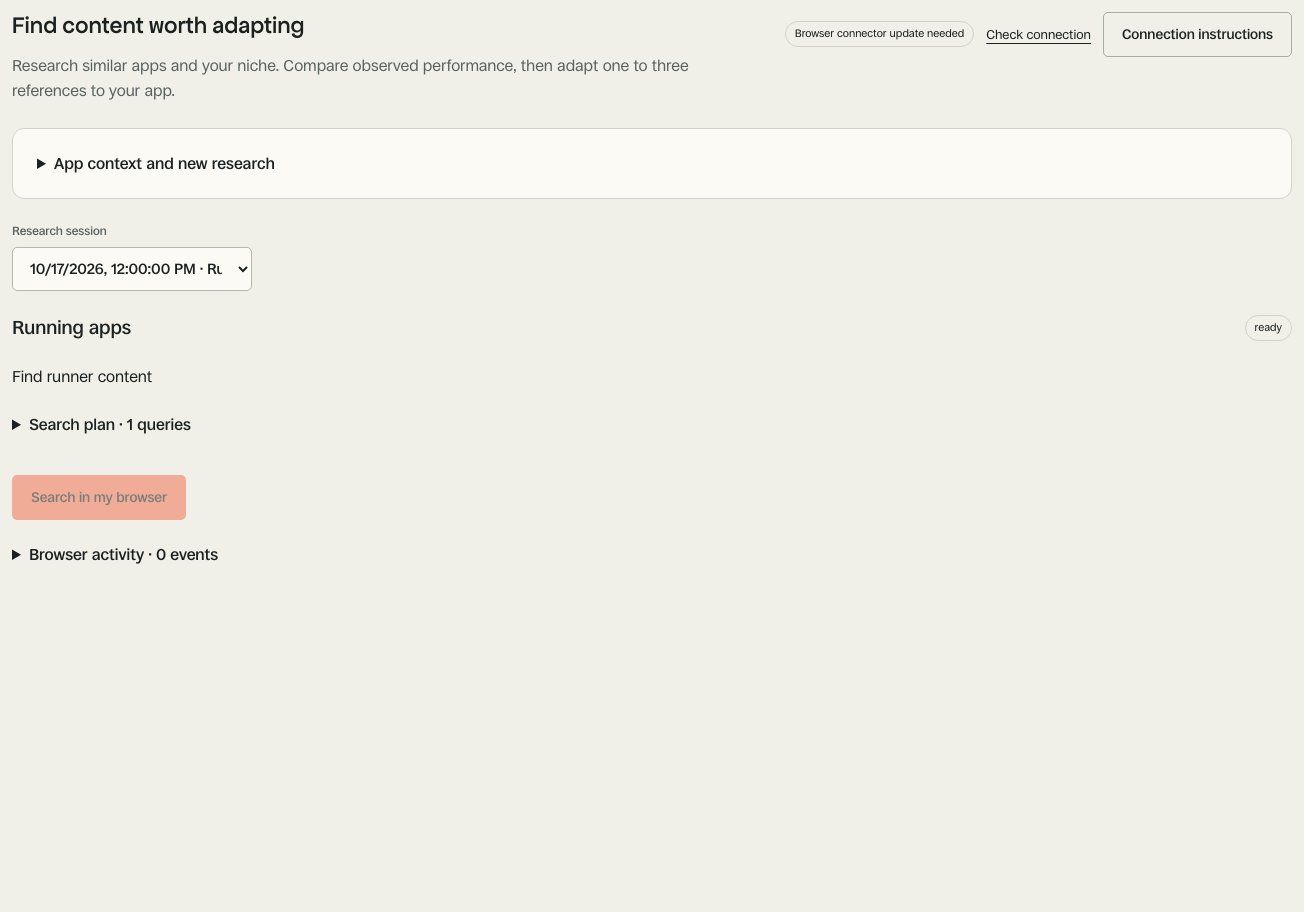
Test: explains how to reload connector 0.1.0 before collection
Check: the button "Search in my browser" is disabled, box x1=12 y1=475 x2=186 y2=520
Click the button "Check connection" at (1039, 34), box x1=986 y1=14 x2=1091 y2=54
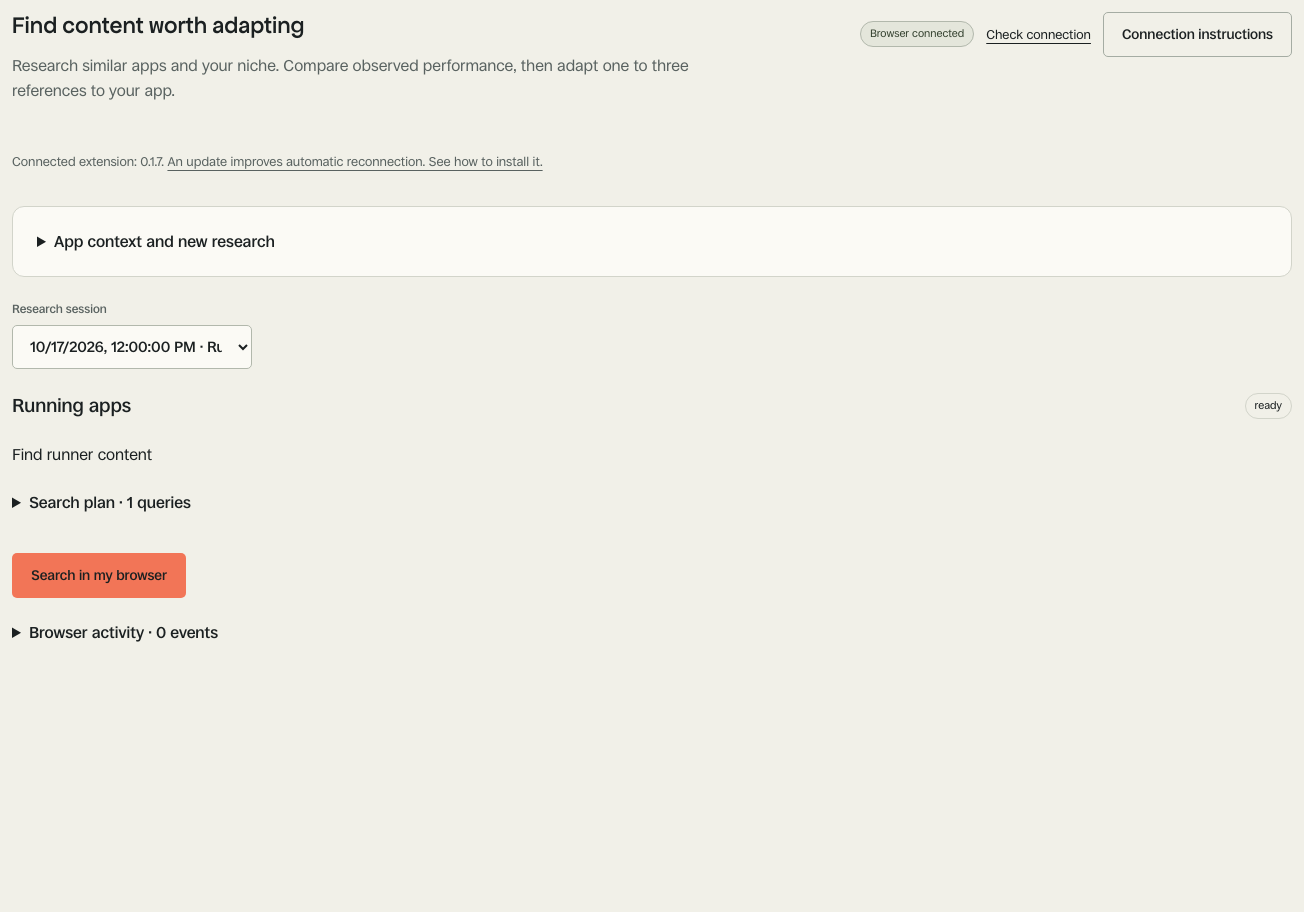
Check: the text "Browser connected" is shown, box x1=860 y1=21 x2=974 y2=47
Check: the button "Search in my browser" is enabled, box x1=12 y1=553 x2=186 y2=598
